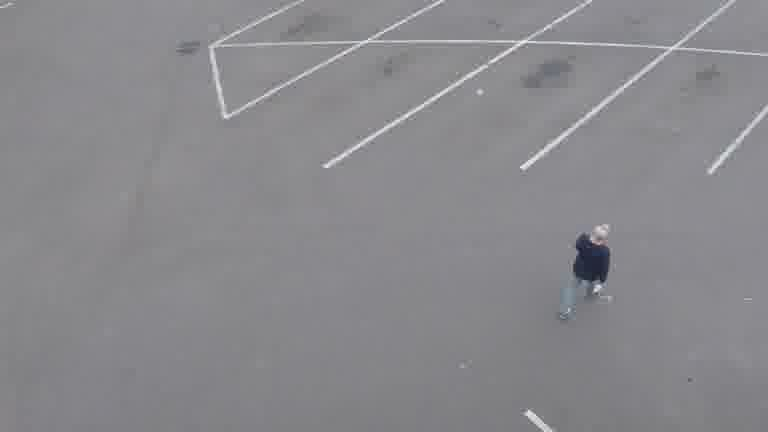bike: (561, 222, 614, 324)
